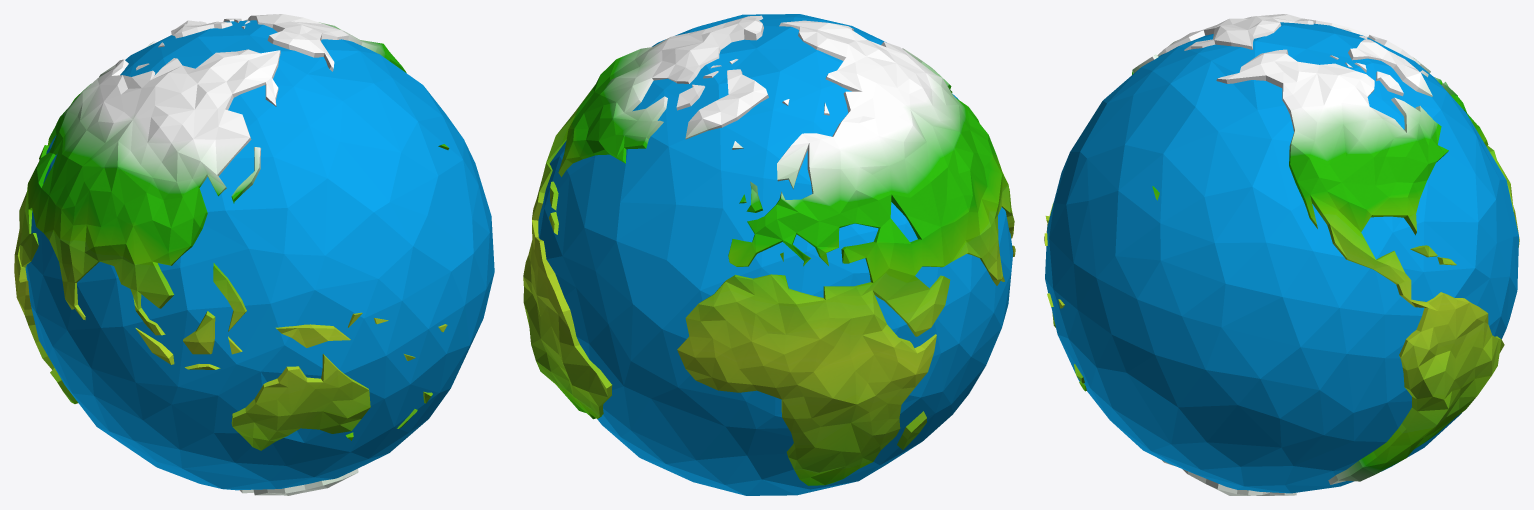
File: planet.gltf
3 views of the same model, side by side, from view 1: azimuth 30°, elevation 25°; view 2: azimuth 150°, elevation 25°; view 3: azimuth 270°, elevation 25° (orthographic). The views are drawn at different scales.
Parts seen in each view (by area): view 1: Earth_Water, Earth_Ground; view 2: Earth_Ground, Earth_Water; view 3: Earth_Water, Earth_Ground.
Boxes of the visible parts, x1,y1,x2,y2 form: Earth_Water: (25,20,494,490); Earth_Ground: (14,14,449,495); Earth_Ground: (523,15,1015,485); Earth_Water: (538,14,1013,495); Earth_Water: (1045,22,1518,493); Earth_Ground: (1044,14,1519,495).
Bounding box in the file's own units: 73.57 × 74.59 × 73.57.
Materials: 2 (1 with a texture image).
